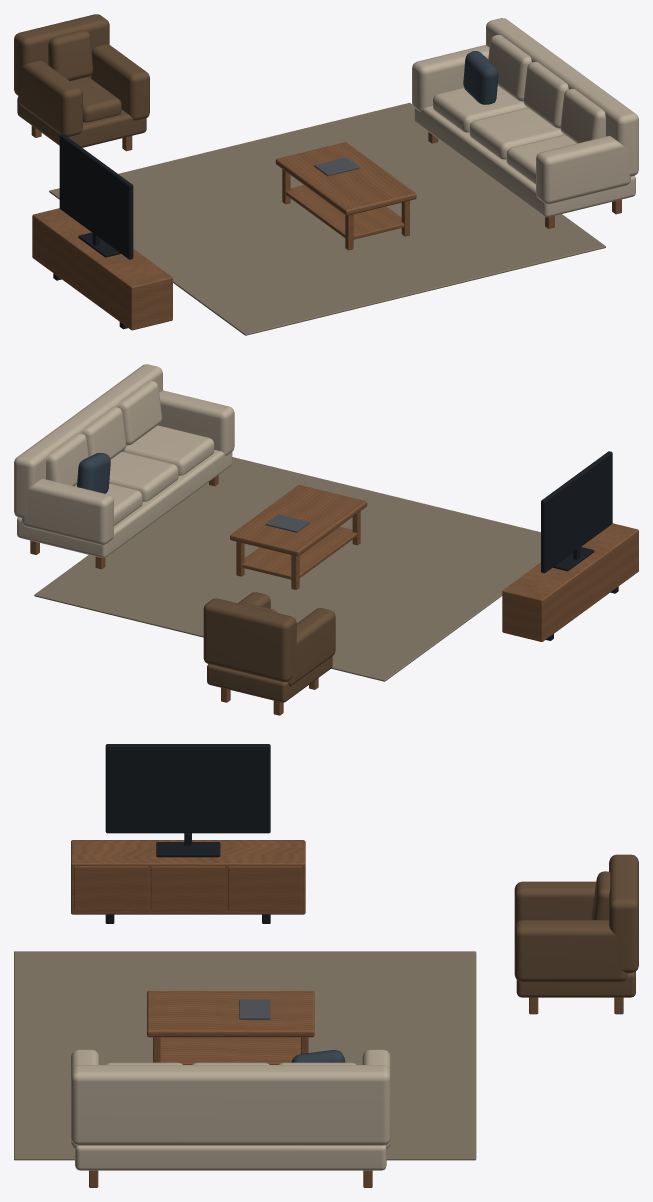
Rendered from living-furniture-v002.glb.
3 renders of one model, top to bottom at view 1: azimuth 30°, elevation 25°; view 2: azimuth 150°, elevation 25°; view 3: azimuth 270°, elevation 25°, orthographic. The views are drawn at different scales.
Visible parts, largest first — view 1: Export sofa deck; view 2: Export sofa deck; view 3: Export sofa deck.
Boxes of the visible parts, <box> form: Export sofa deck: <box>14,14,638,335</box>; Export sofa deck: <box>14,364,638,715</box>; Export sofa deck: <box>14,744,638,1187</box>.
Size of the model in its own units: 4.87 by 1.3 by 4.4.
7 materials, 1 textured.
